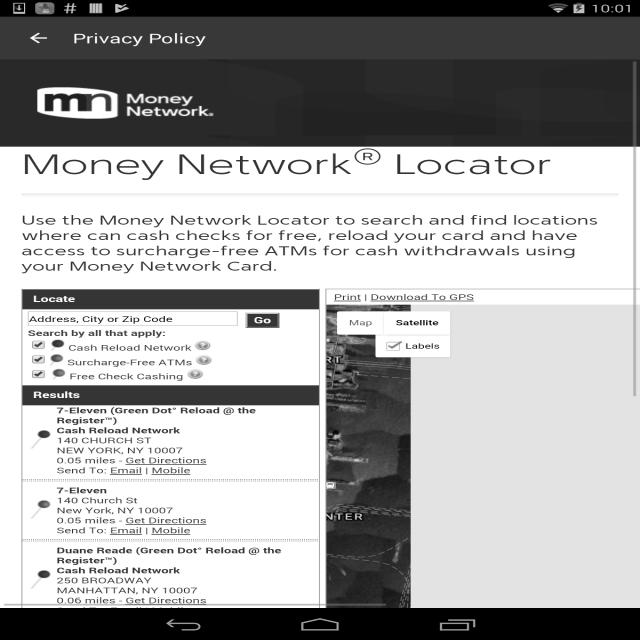Button: (246, 313, 280, 328)
CheckBox: (386, 341, 403, 351), (32, 355, 46, 364), (32, 370, 46, 379), (32, 341, 46, 349)
EditText: (28, 311, 238, 326)
ImageButton: (9, 17, 68, 59)
TextView: (72, 29, 206, 47)
